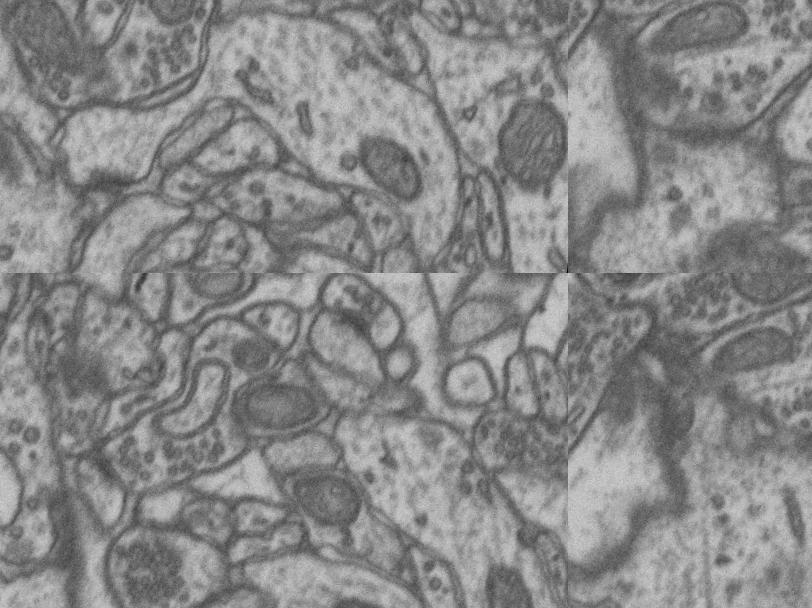mitochondria: (599, 0, 760, 104), (614, 119, 730, 230), (488, 86, 568, 201), (0, 0, 101, 83), (706, 312, 810, 390), (346, 124, 434, 209), (232, 376, 326, 443), (285, 463, 370, 535), (568, 273, 589, 503), (714, 273, 812, 322), (468, 556, 548, 608), (568, 140, 611, 222), (177, 273, 257, 310), (132, 0, 212, 35), (228, 330, 274, 373), (521, 0, 568, 37)
